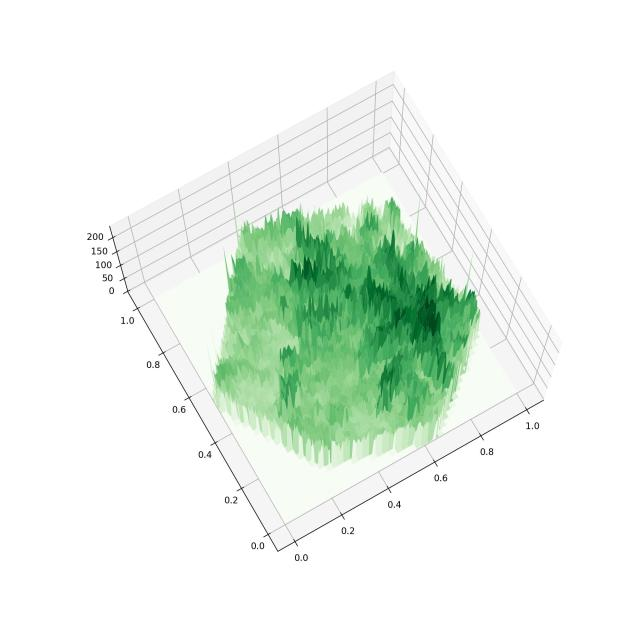fir: (56, 57, 586, 599)
